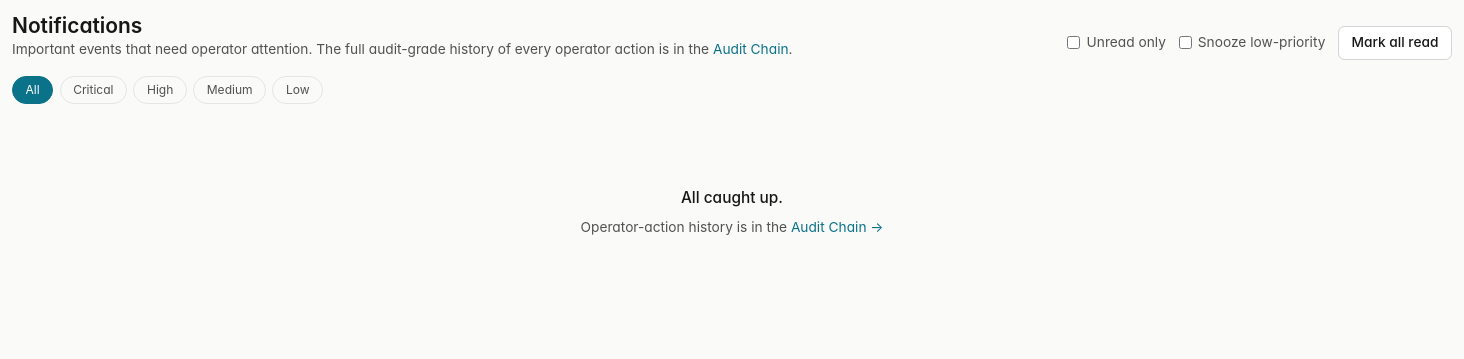
Scenario: <NotificationsPage> action-failure banner › shows the kernel error code + detail when Mark all read rejects
Check: the heading "Notifications" is shown, box [12,13,142,38]
Click the button "Mark all read": (1395,43) [1338,26,1452,60]
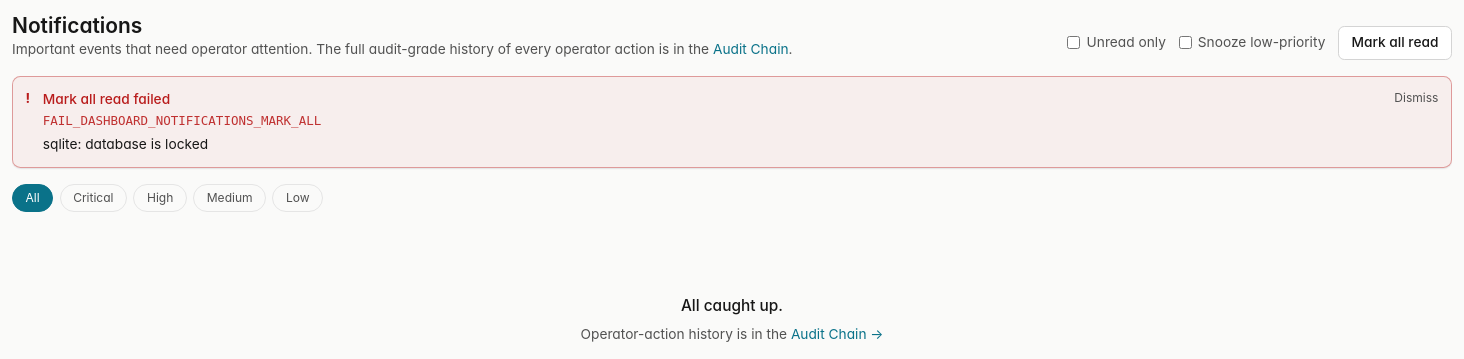
Check: the message with test id "action-failure-banner" shows "Mark all read failed", box [43,91,170,107]
Check: the message with test id "action-failure-banner" shows "FAIL_DASHBOARD_NOTIFICATIONS_MARK_ALL", box [43,113,321,128]
Check: the message with test id "action-failure-banner" shows "sqlite: database is locked", box [43,136,208,152]
Click the button "Dismiss": (1416,98) [1394,90,1438,107]
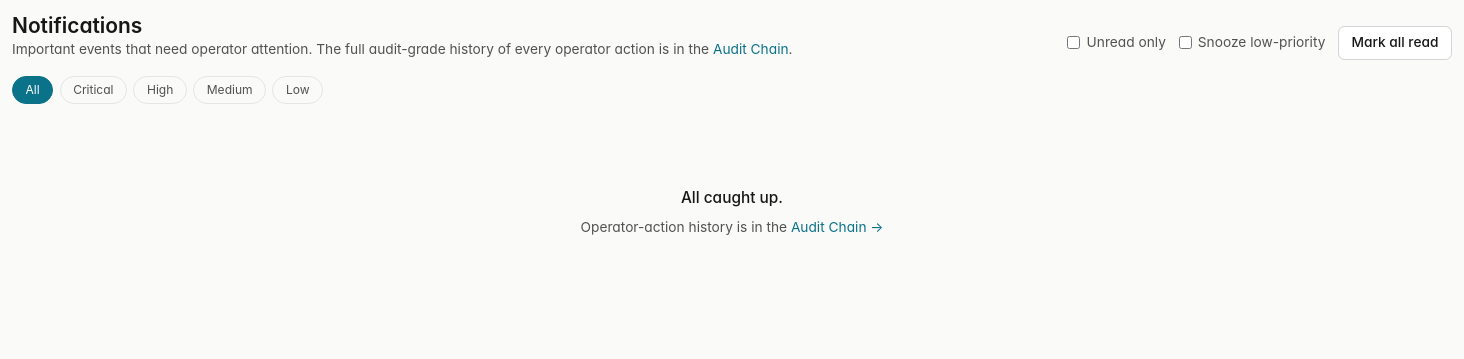
Check: the message with test id "action-failure-banner" is gone
